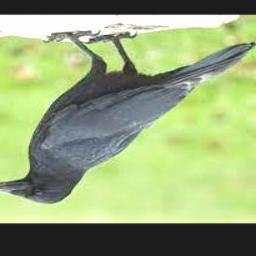Crow: (0, 31, 255, 205)
